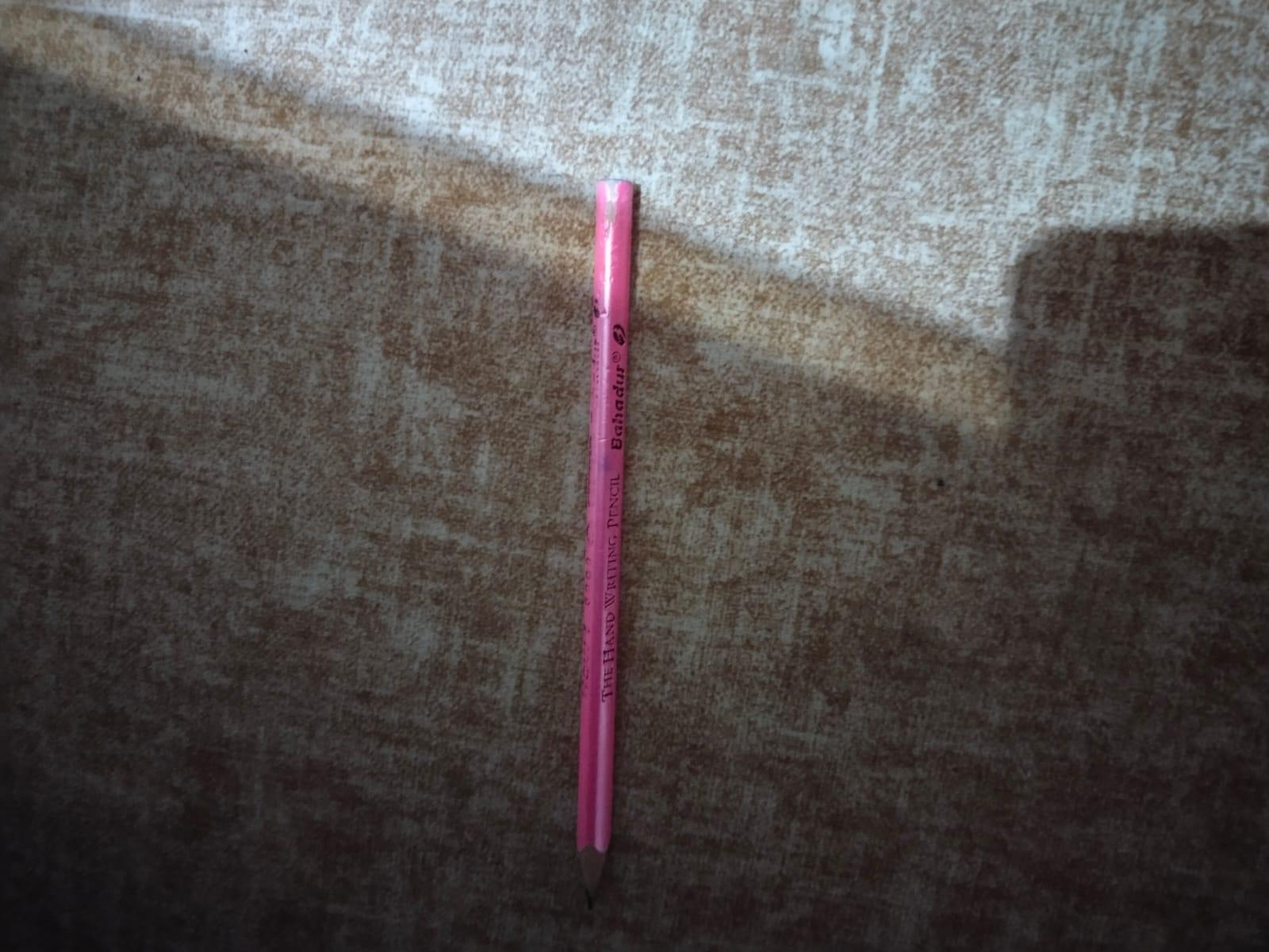pencil: (577, 179, 640, 908)
